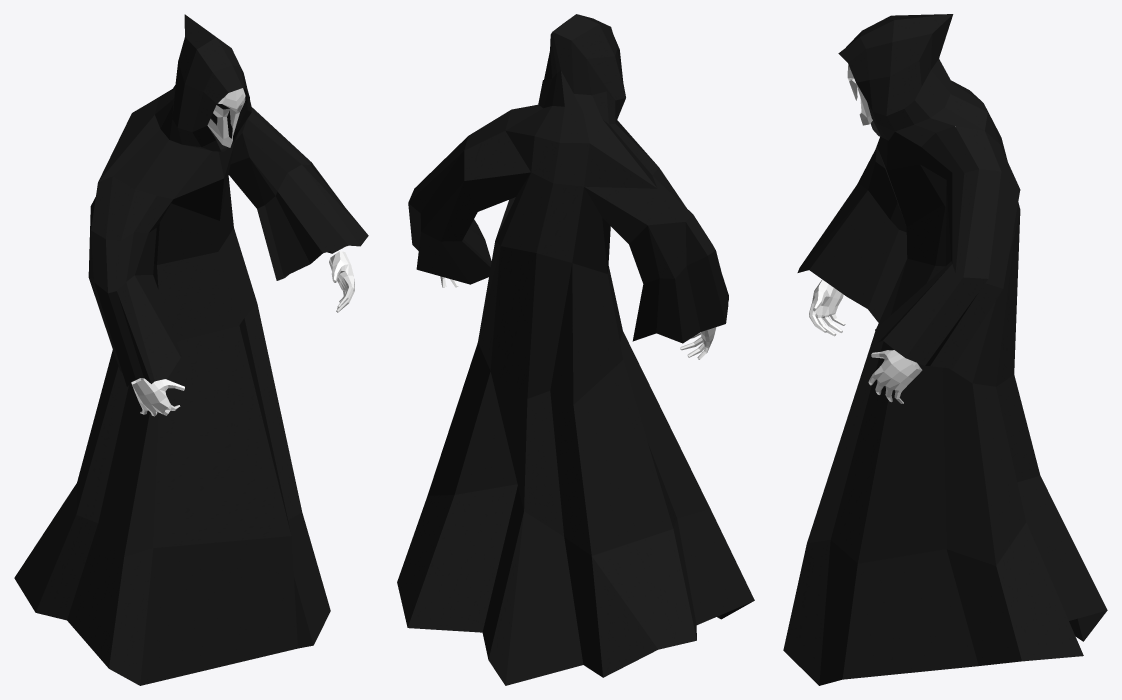
Rendered from ReaperWalk(1).obj.
The picture shows the model from 3 angles, left to right: view 1: azimuth 30°, elevation 25°; view 2: azimuth 150°, elevation 25°; view 3: azimuth 270°, elevation 25°; orthographic projection. The views are drawn at different scales.
Parts seen in each view (by area): view 1: Plane003; view 2: Plane003; view 3: Plane003.
Part boxes in pixels (left/top/right/bottom): Plane003: left=14, top=14, right=368, bottom=685; Plane003: left=397, top=14, right=754, bottom=685; Plane003: left=783, top=14, right=1107, bottom=685.
Bounding box in the file's own units: 114 × 216 × 99.45.
